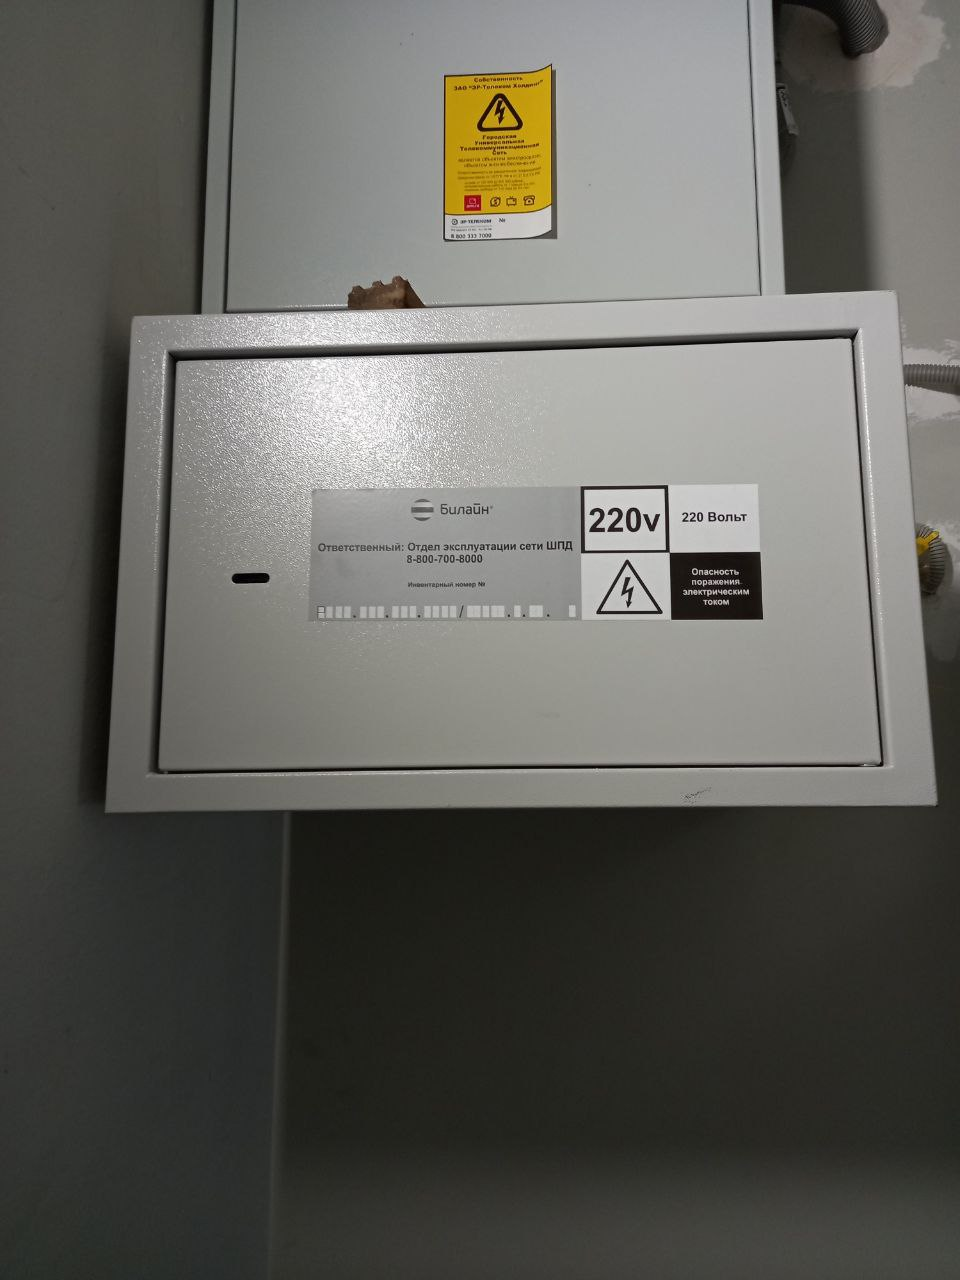shta-7m: (88, 287, 944, 820)
